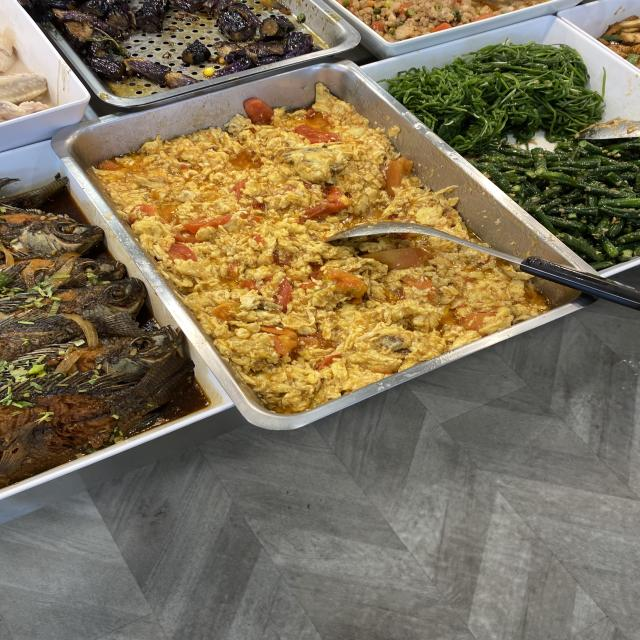Scramble Egg with Tomatoes: (161, 141, 323, 267)
